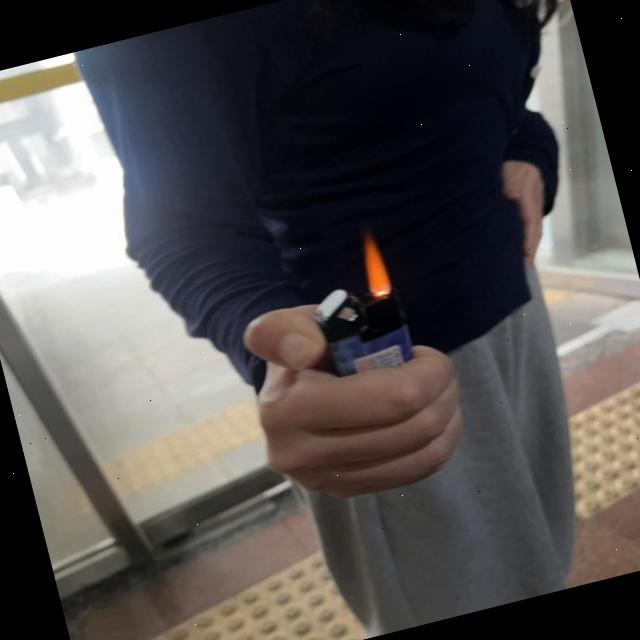fire: (352, 226, 394, 298)
